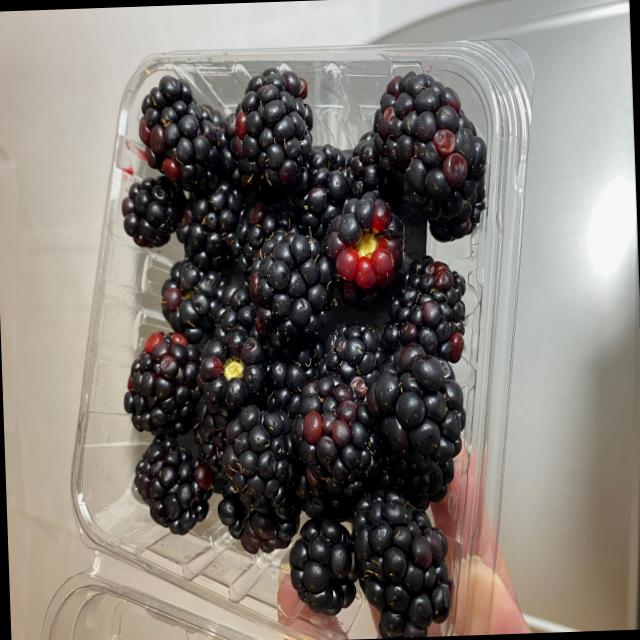blackberries: (91, 59, 486, 601)
